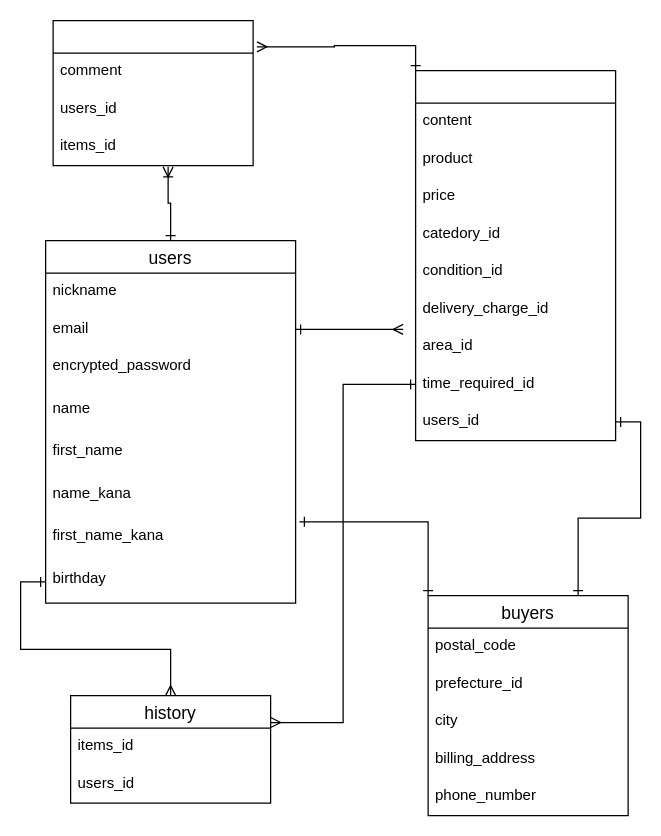
Some shapes in this 661 by 836 pixel diagram are drawn without their labels. The shapes that lost their labels are listed below. From the top down, each one's box as (x1, y1, x2, y2) in pixels, then its label:
(52, 19, 253, 166): comments
(414, 69, 616, 441): items
